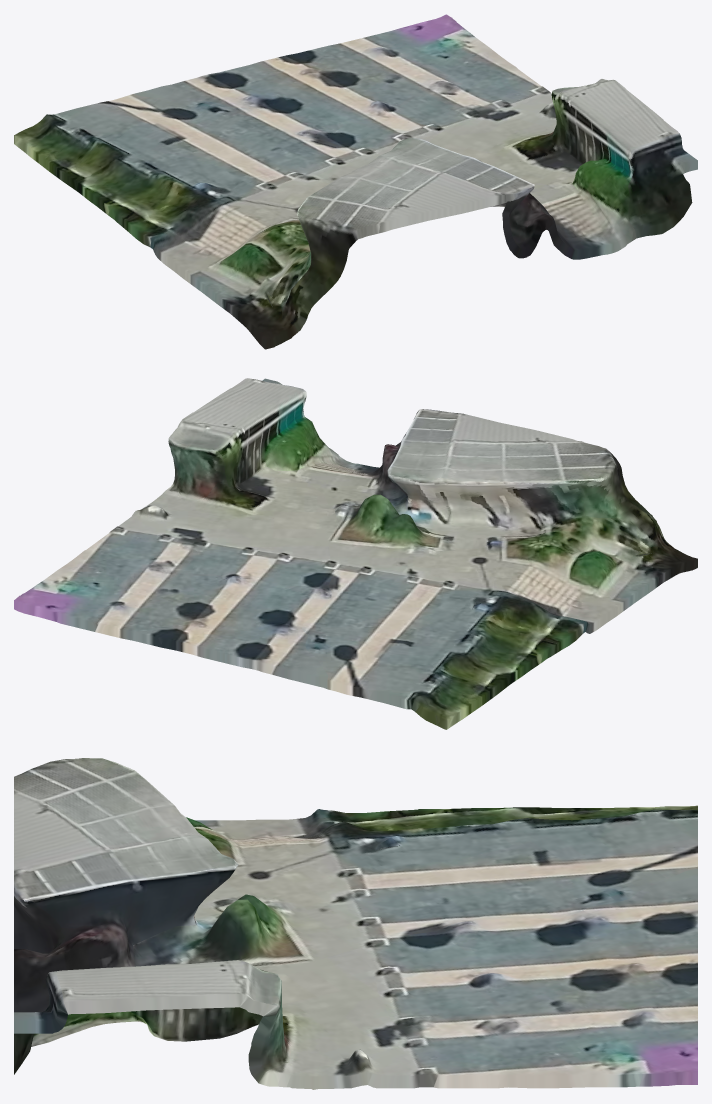
Rendered from z20-167751-405248-h0-yup-uvflip-v3-world.glb.
3 renders of one model, top to bottom at view 1: azimuth 30°, elevation 25°; view 2: azimuth 150°, elevation 25°; view 3: azimuth 270°, elevation 25°, orthographic. The views are drawn at different scales.
Bounding box in the file's own units: 30.16 × 6.88 × 30.32.
Materials: 1 (1 with a texture image).
